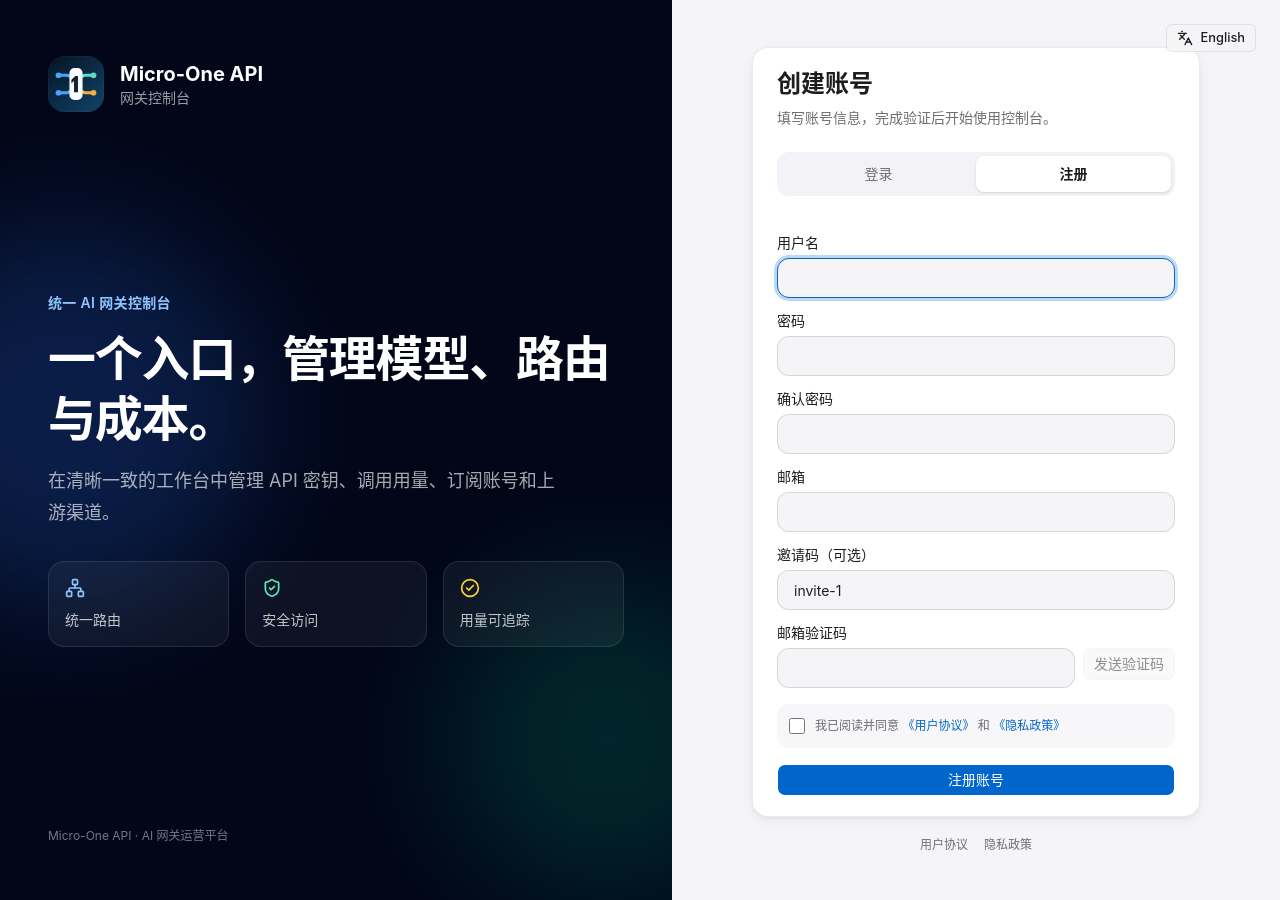
Test case: LoginPage › requires verification for invitation rewards when ordinary registration does not require email
The width and height of the screenshot is (1280, 900).
Clear the field labelled "邀请码（可选）". click: (976, 590)
box: top-left (777, 570), bottom-right (1175, 610)
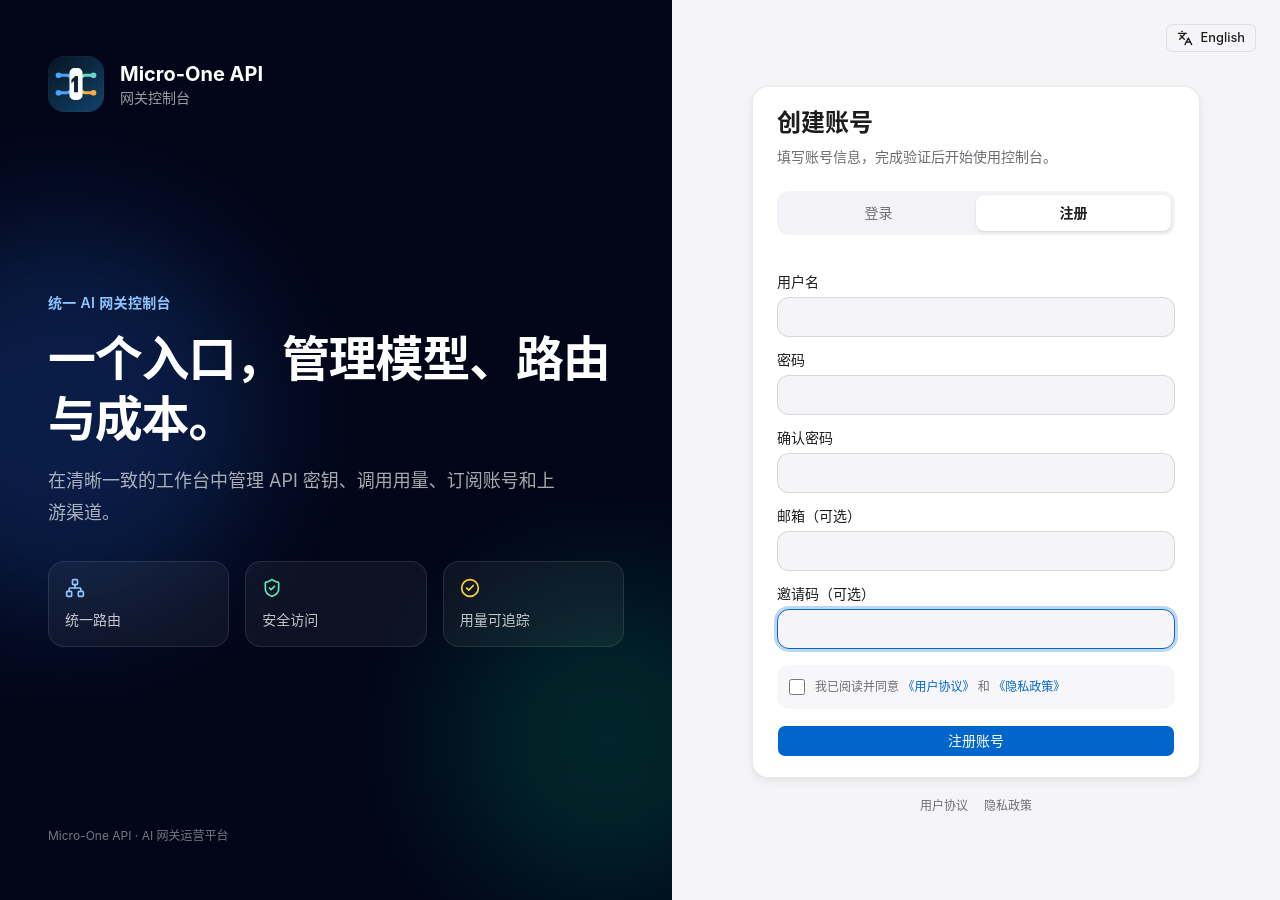
Result: the label labelled "邮箱验证码" is gone
